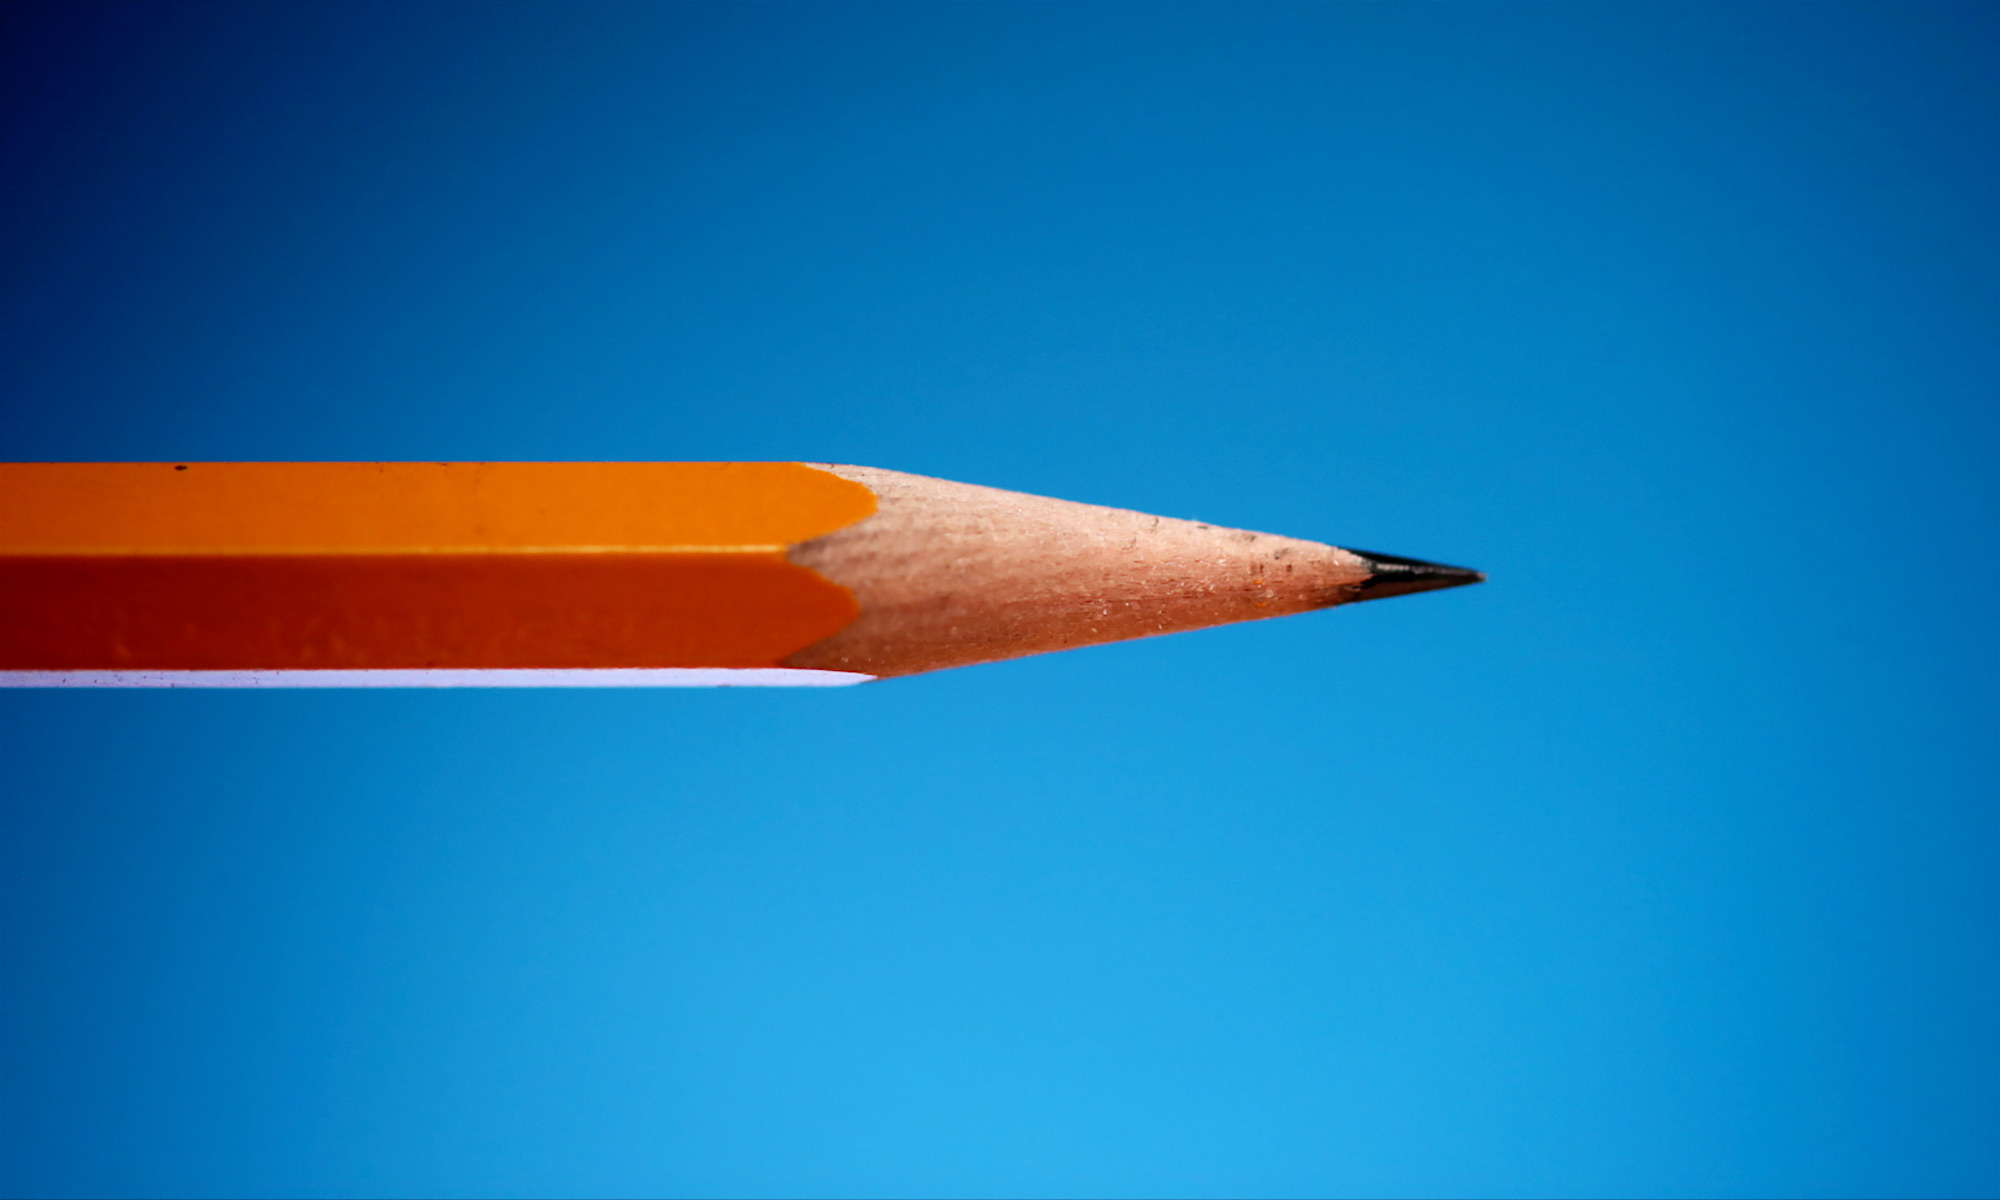pencil: (1, 364, 1567, 781)
